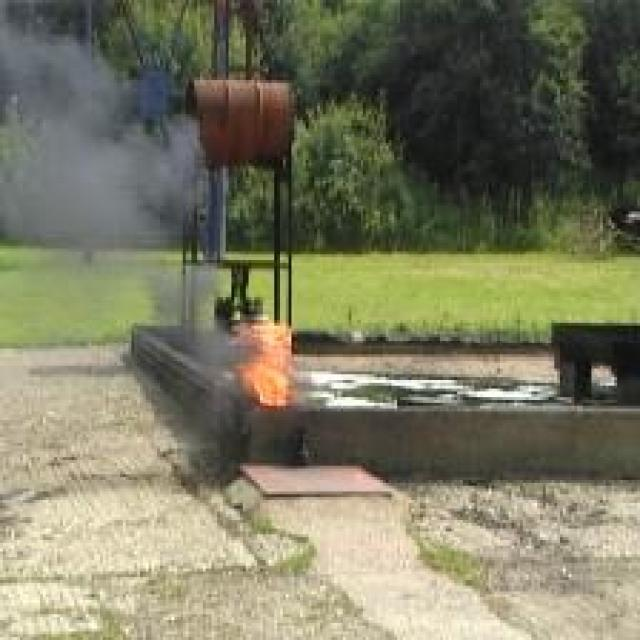Fire: (242, 316, 298, 404)
